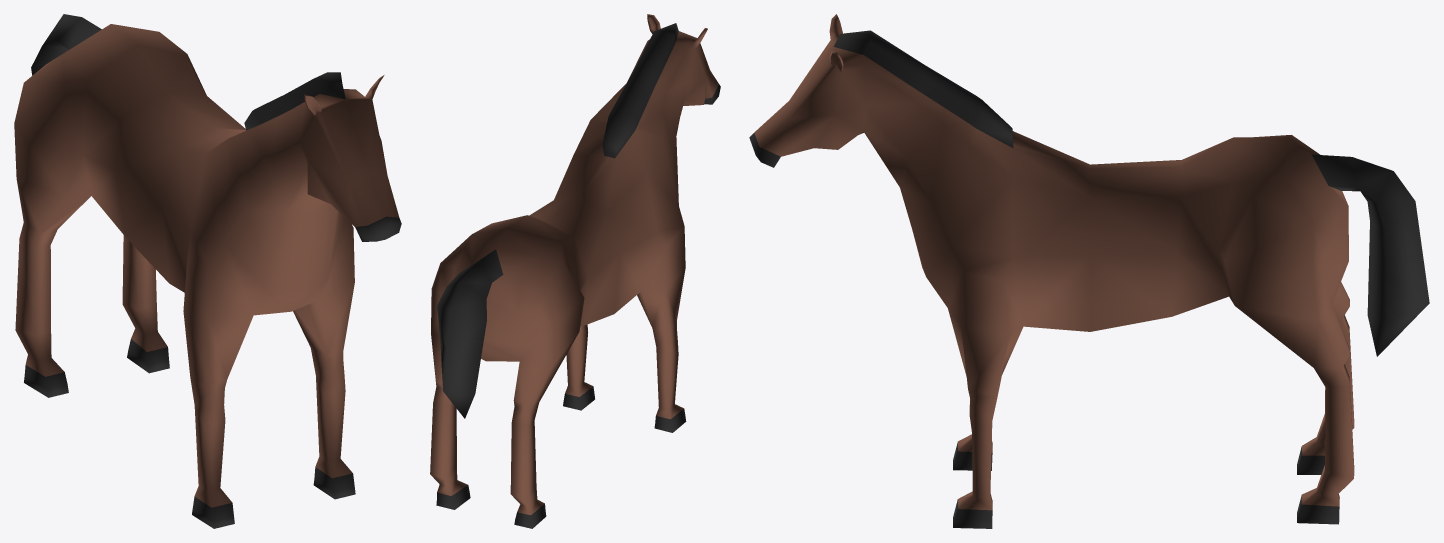
The model's file is Horse.gltf.
The picture shows the model from 3 angles, left to right: view 1: azimuth 30°, elevation 25°; view 2: azimuth 150°, elevation 25°; view 3: azimuth 270°, elevation 25°; orthographic projection. The views are drawn at different scales.
Visible parts, largest first — view 1: Node1; view 2: Node1; view 3: Node1.
Part boxes in pixels (bbox=[...]): Node1: bbox=[14, 14, 401, 528]; Node1: bbox=[430, 14, 720, 528]; Node1: bbox=[749, 14, 1429, 528].
Bounding box in the file's own units: 2.56 × 6.91 × 9.24.
